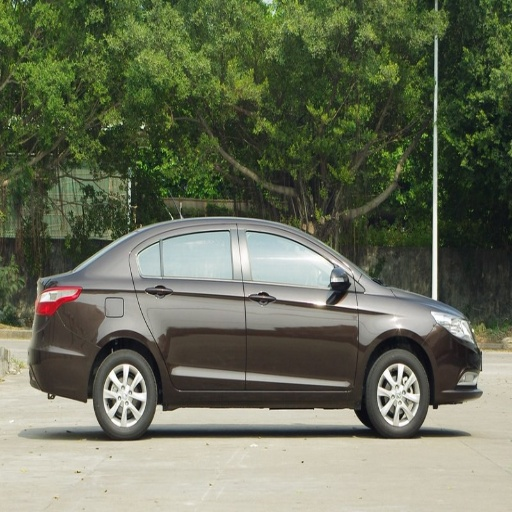back_right_door: (133, 220, 245, 390)
front_right_door: (239, 222, 358, 390)
